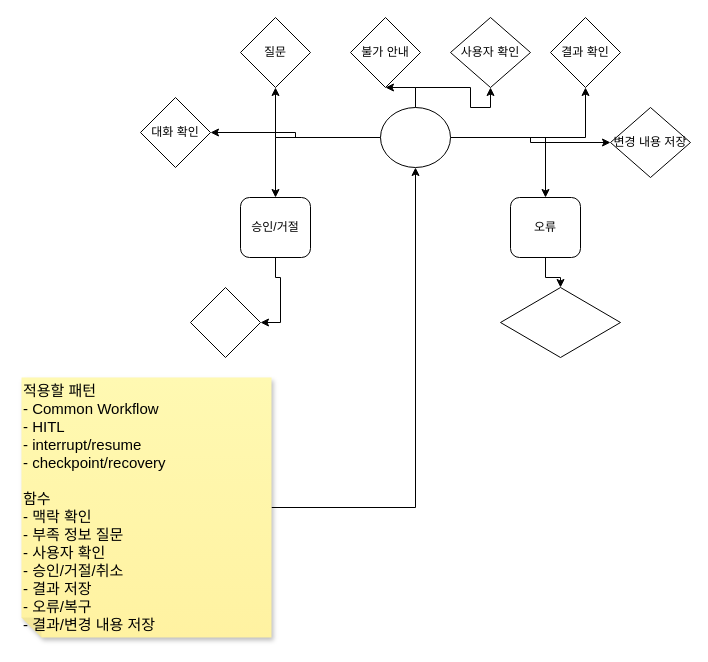
The diagram is 708 pixels wide and 662 high, and some of its shapes have lost their labels. Each missing label, with the centre of its shape:
"공통" goes at (x=415, y=137).
"재시도/복구" goes at (x=560, y=322).
"중간 취소" goes at (x=225, y=322).
